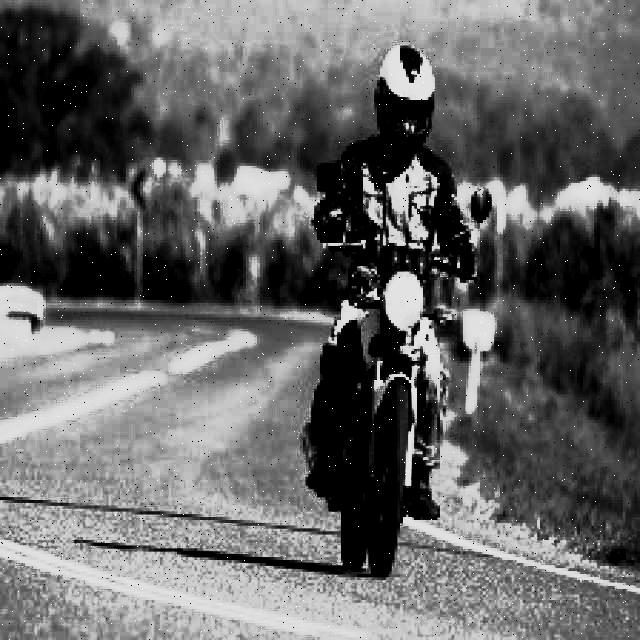Bike: (335, 231, 444, 603)
